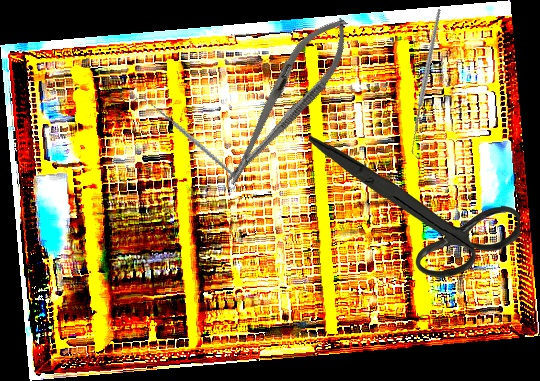Hook Surgical: (354, 8, 502, 159), (135, 75, 239, 202)
Iris Scissors: (308, 130, 522, 280)
Needle Holder: (208, 5, 364, 197)
